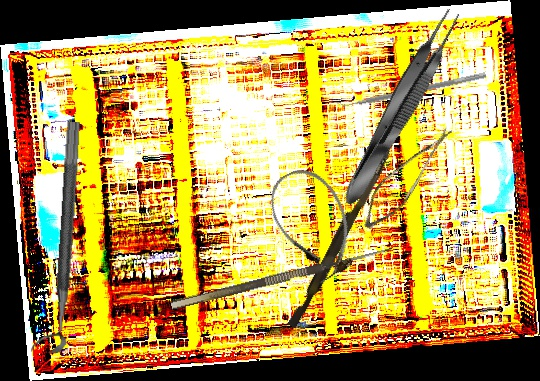Cannula: (258, 158, 370, 289)
Fixation Ring: (29, 120, 83, 354)
Hook Surgical: (167, 234, 394, 310)
Micro Scissor: (357, 111, 453, 242)
Pusher: (287, 137, 396, 332)
Spatula Surgical: (336, 66, 487, 112)
Tissue Forceps: (333, 4, 468, 211)
